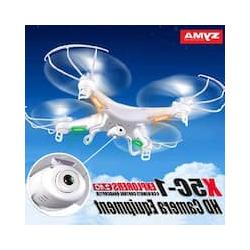drone: (25, 43, 225, 161)
